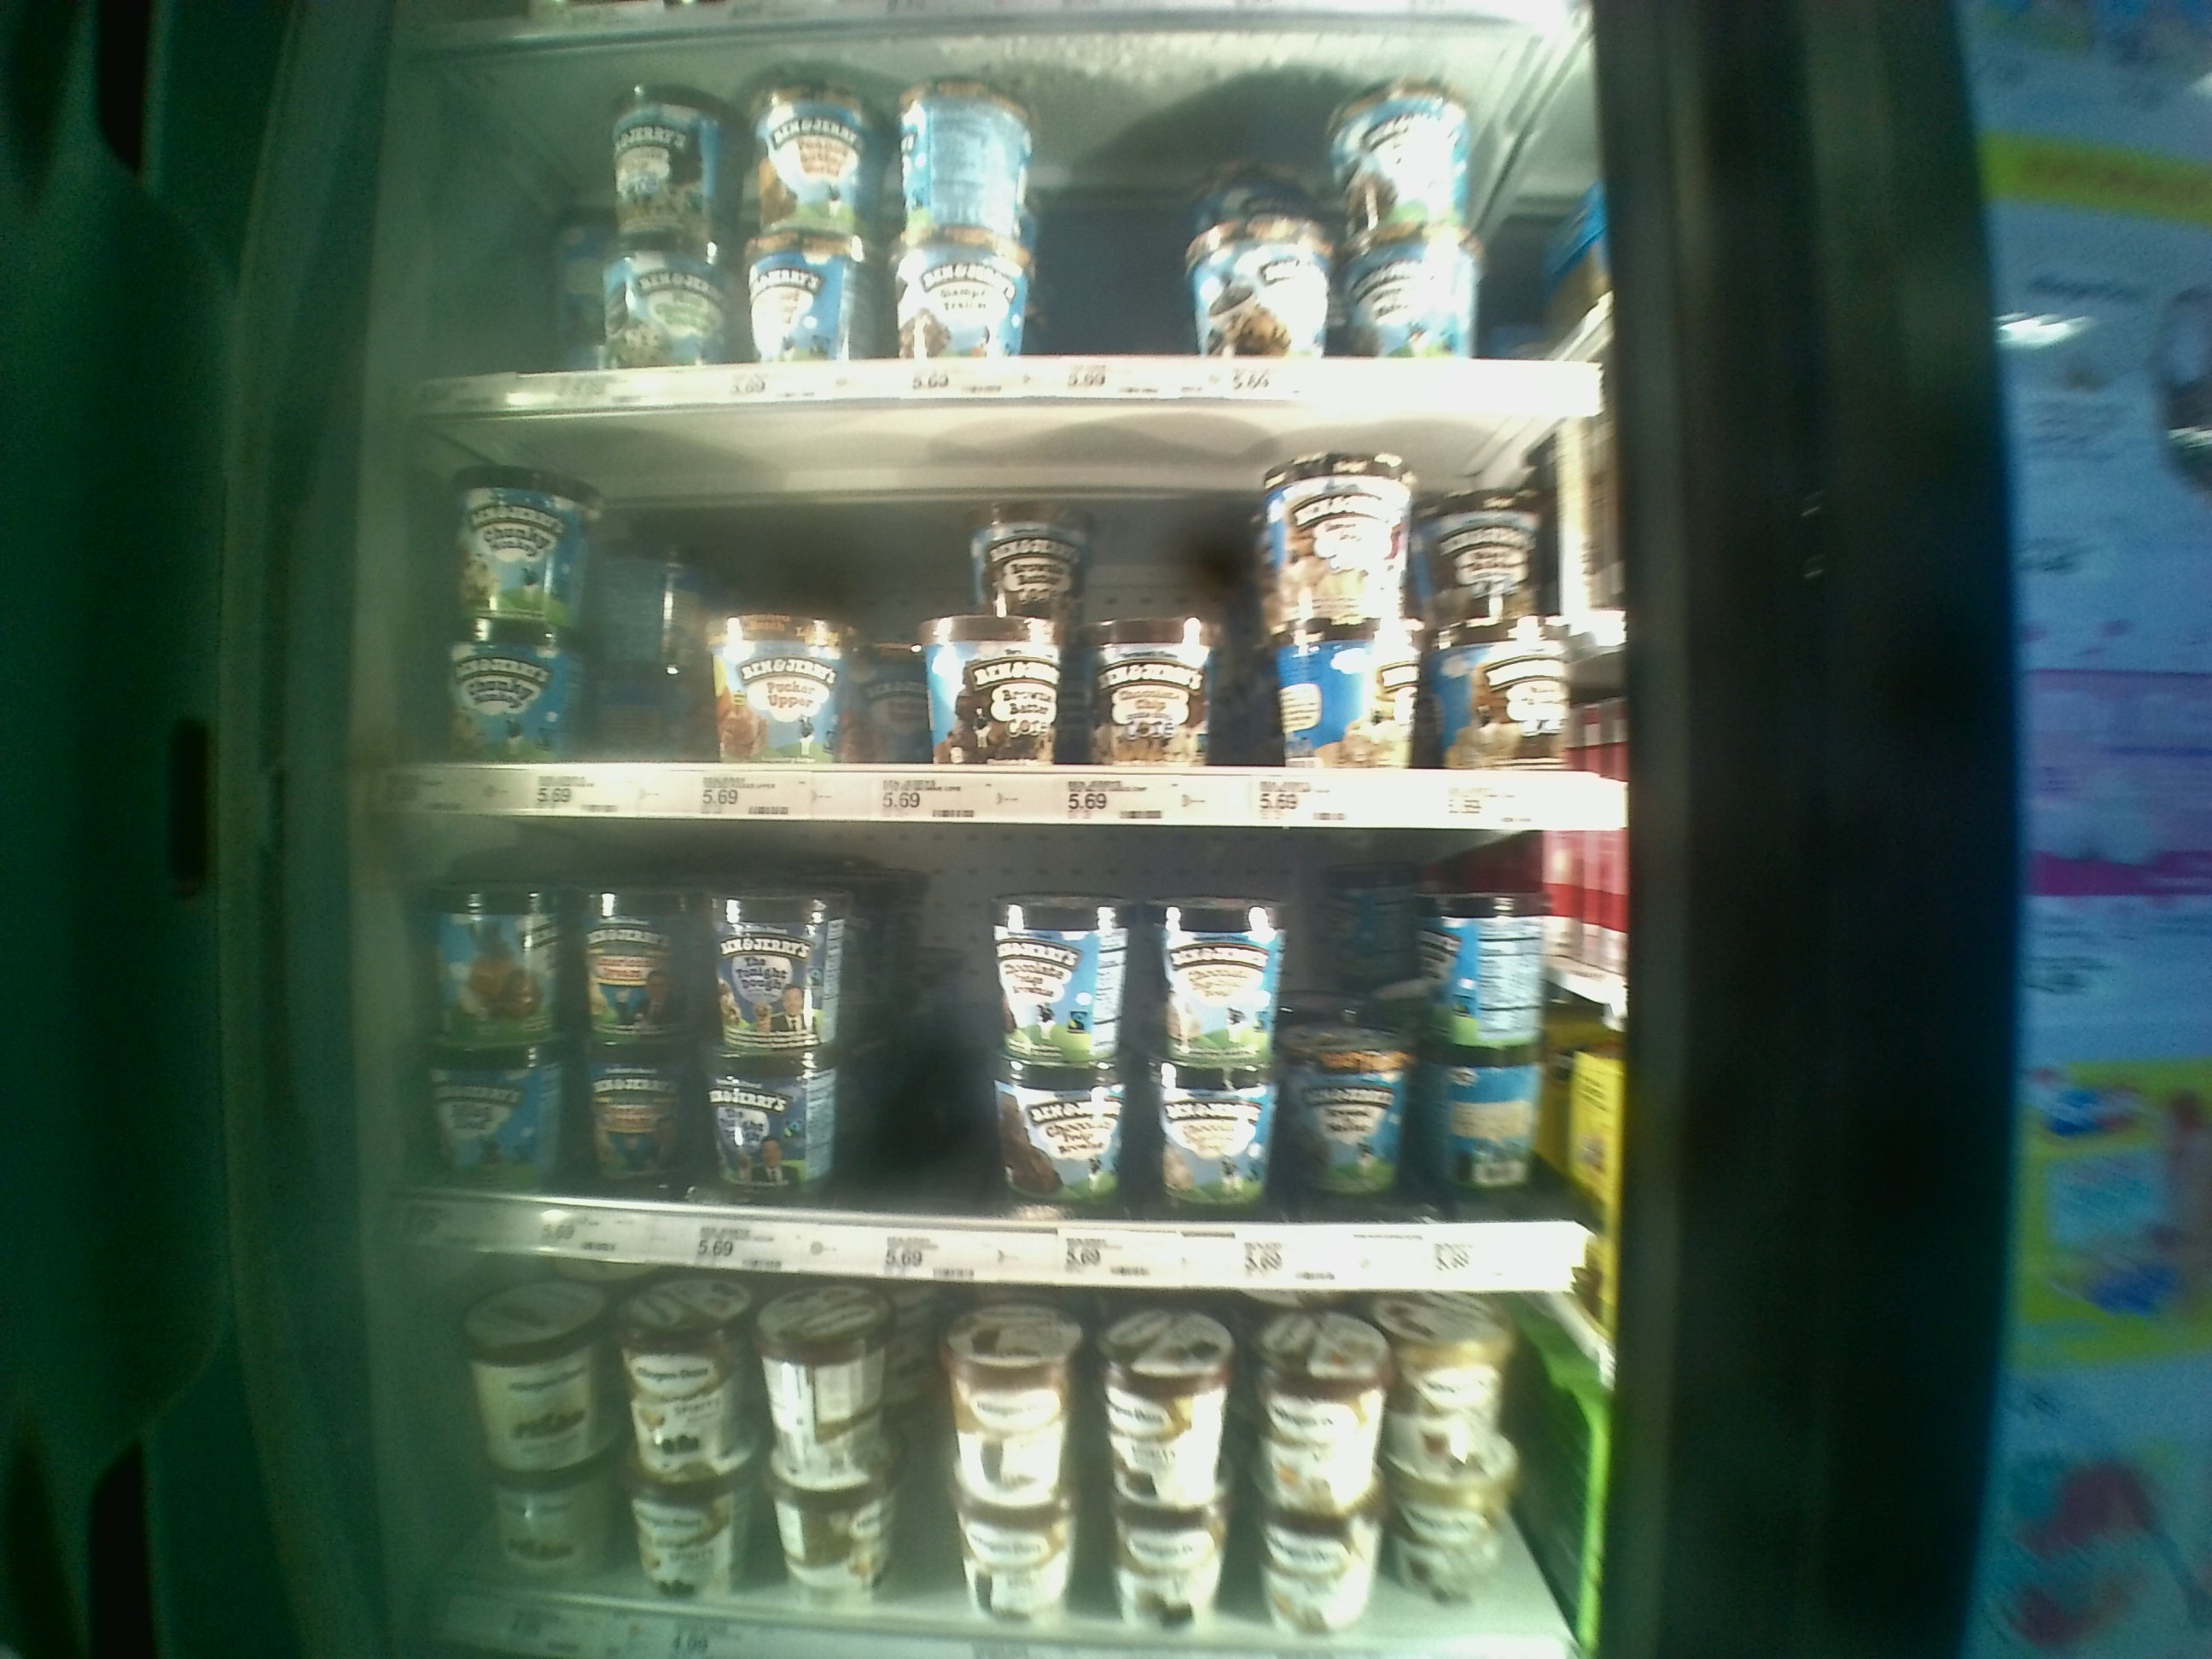ice-cream-shelf: (406, 823, 1609, 1265), (394, 410, 1627, 828)
